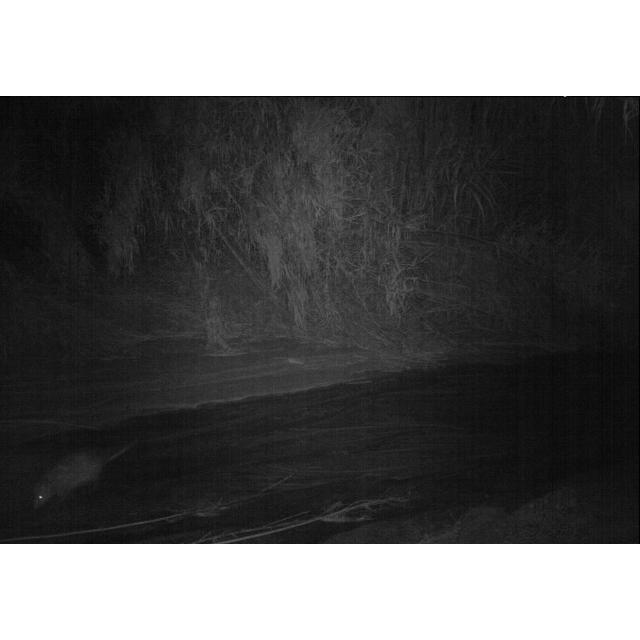animals: (30, 436, 142, 512)
